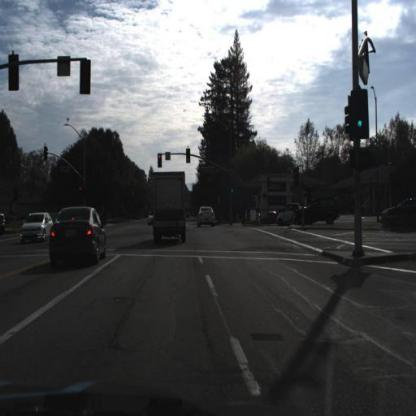car: (46, 206, 107, 270), (298, 189, 342, 228), (381, 197, 416, 234), (20, 213, 55, 247), (276, 199, 304, 228), (197, 203, 218, 231)
trafficLight: (185, 146, 193, 166)
trafficLight-RedLeft: (157, 149, 163, 168)
truck: (150, 167, 192, 257)
